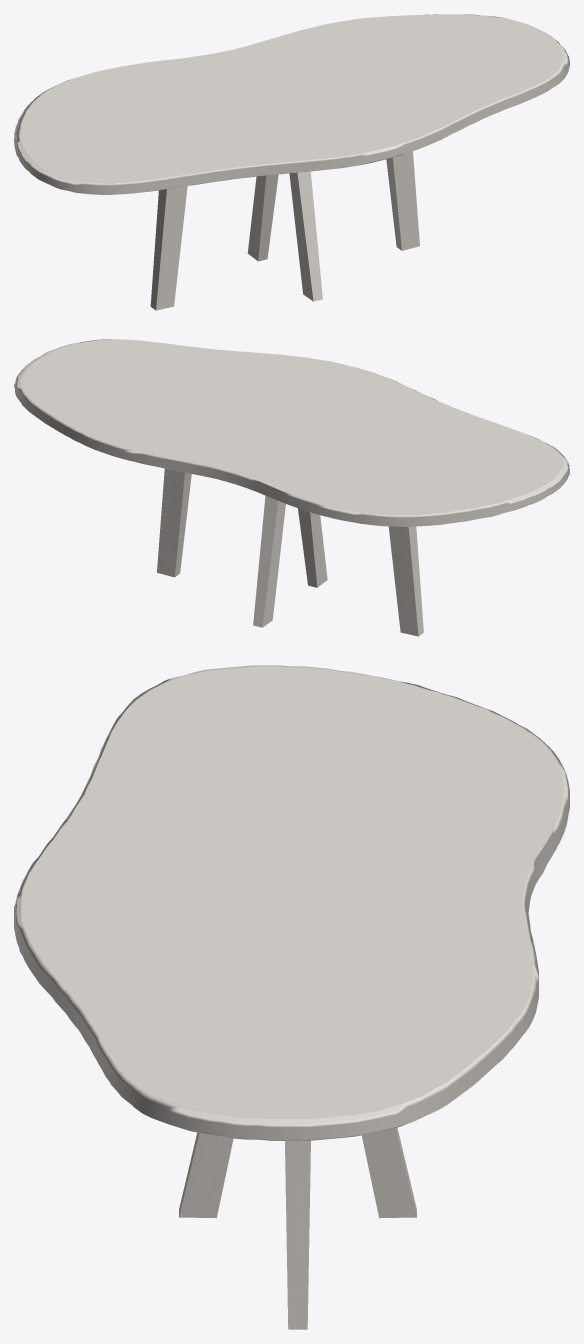
Rendered from pearlwhite_toplast_round_searwalnut.glb.
3 views of the same model, one above another, from view 1: azimuth 30°, elevation 25°; view 2: azimuth 150°, elevation 25°; view 3: azimuth 270°, elevation 25° (orthographic). The views are drawn at different scales.
Parts seen in each view (by area): view 1: round_toplast, searwalnut; view 2: round_toplast, searwalnut; view 3: round_toplast, searwalnut.
Boxes of the visible parts, bbox=[...] form: round_toplast: bbox=[14, 14, 569, 194]; searwalnut: bbox=[150, 151, 419, 310]; round_toplast: bbox=[14, 339, 569, 526]; searwalnut: bbox=[157, 468, 423, 636]; round_toplast: bbox=[14, 665, 569, 1140]; searwalnut: bbox=[179, 1127, 416, 1329].
Size of the model in its own units: 7.68 by 2.5 by 3.89.
1 material, 1 textured.
